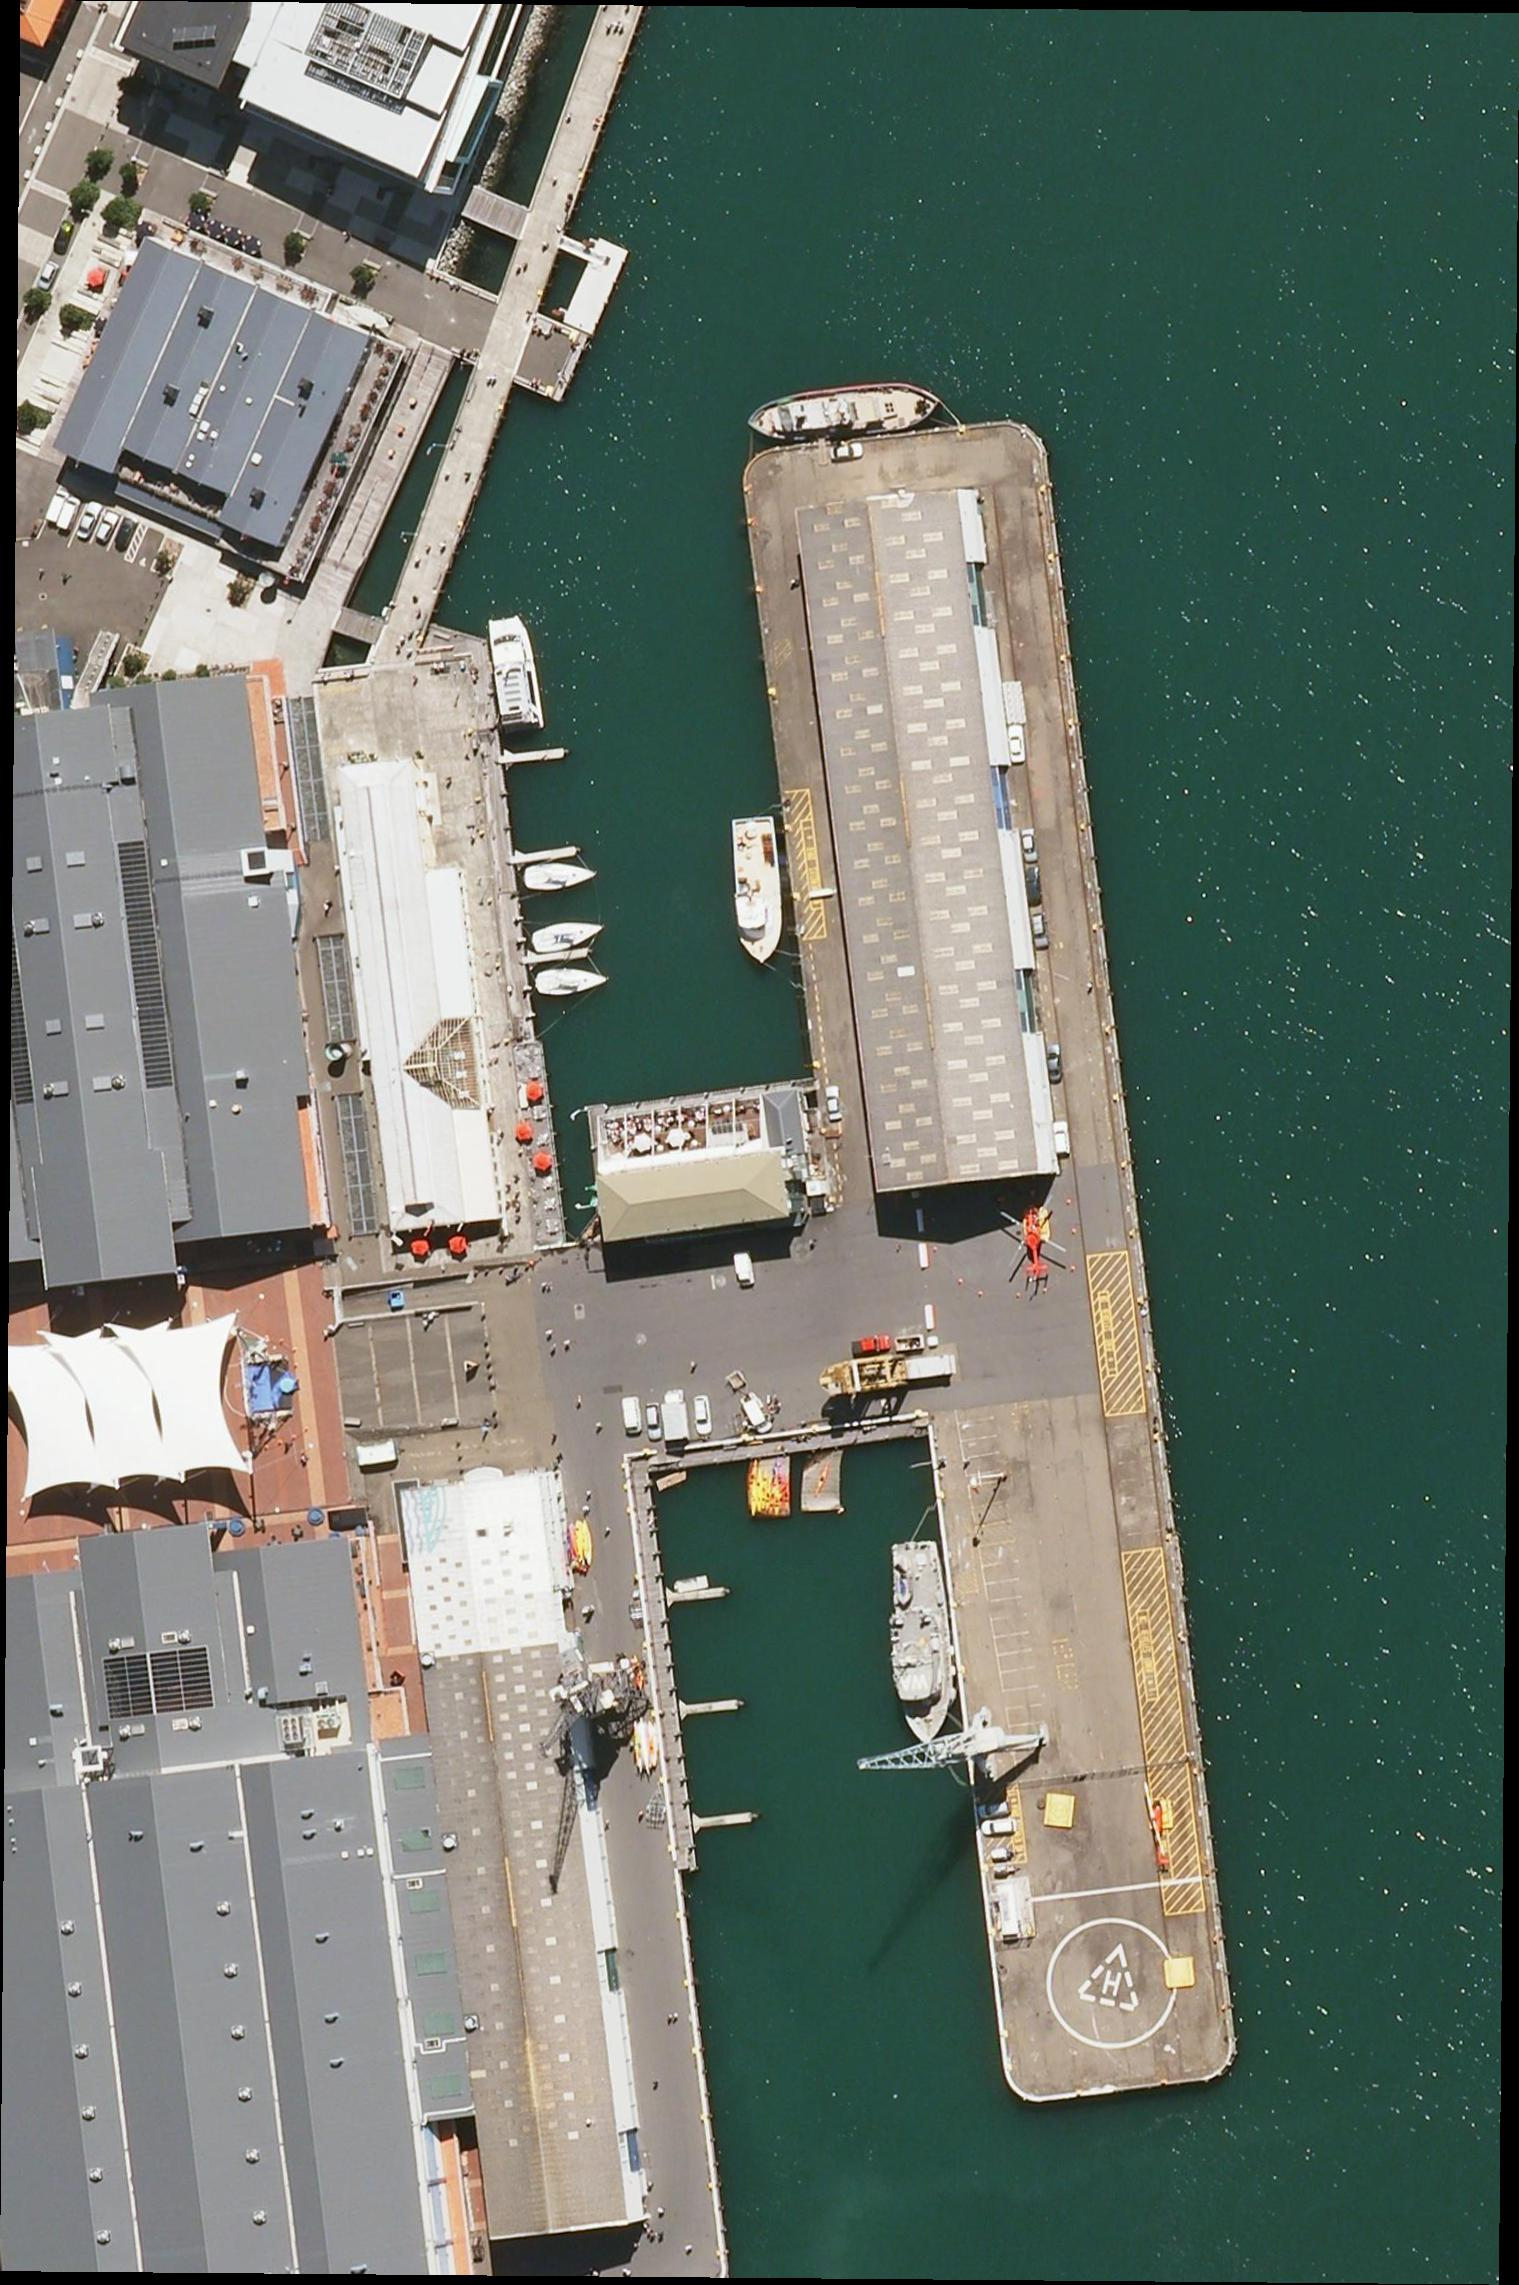harbor: (512, 846, 576, 865), (526, 948, 590, 965), (502, 748, 565, 764), (673, 1587, 726, 1604), (687, 1698, 737, 1715), (700, 1812, 753, 1827)
ship: (882, 1543, 965, 1744), (748, 380, 939, 451), (732, 819, 783, 966), (488, 615, 544, 732)
